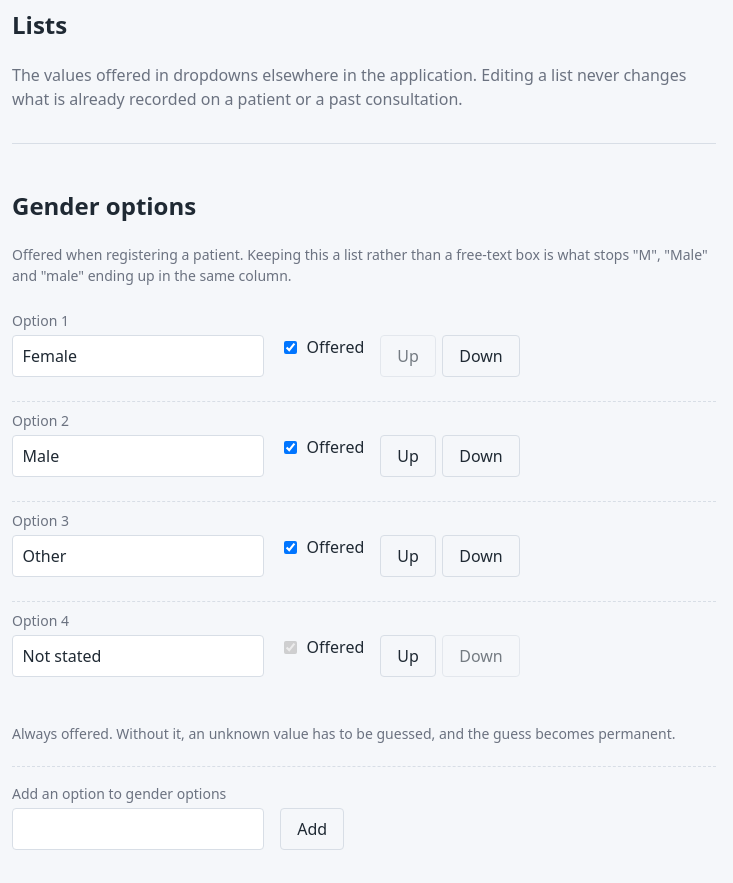
Test: ClinicSettingsPage › catches a case-insensitive duplicate before it is ever sent (C-20)
This screenshot has width=733, height=883.
Type "male" into the field labelled "Add an option to gender options" at (138, 829), box [12,808,264,850]
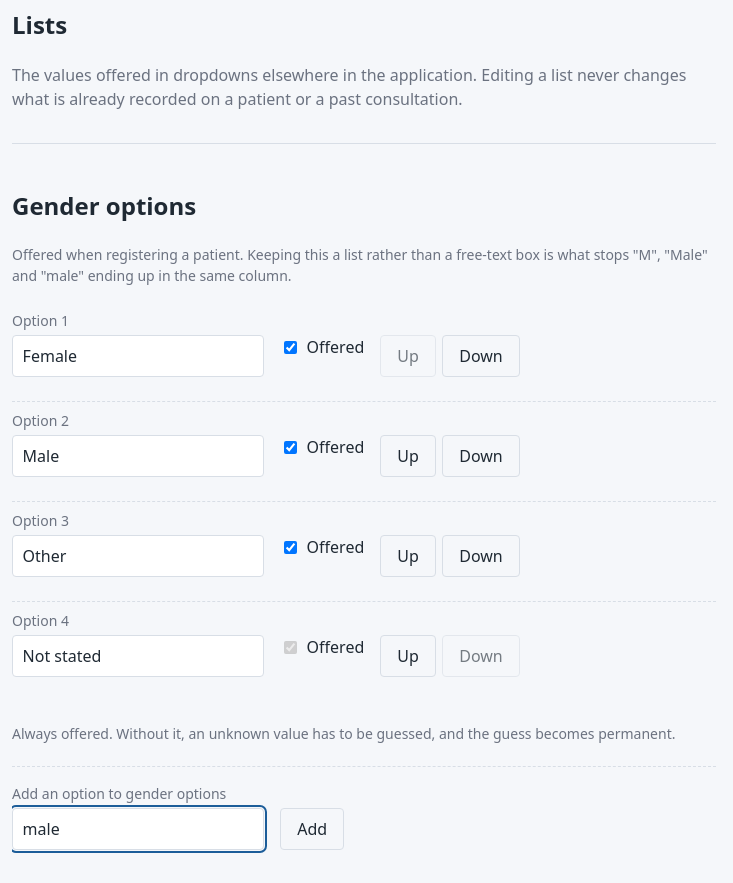
Click the button "Add" at (312, 829), box [280,808,344,850]
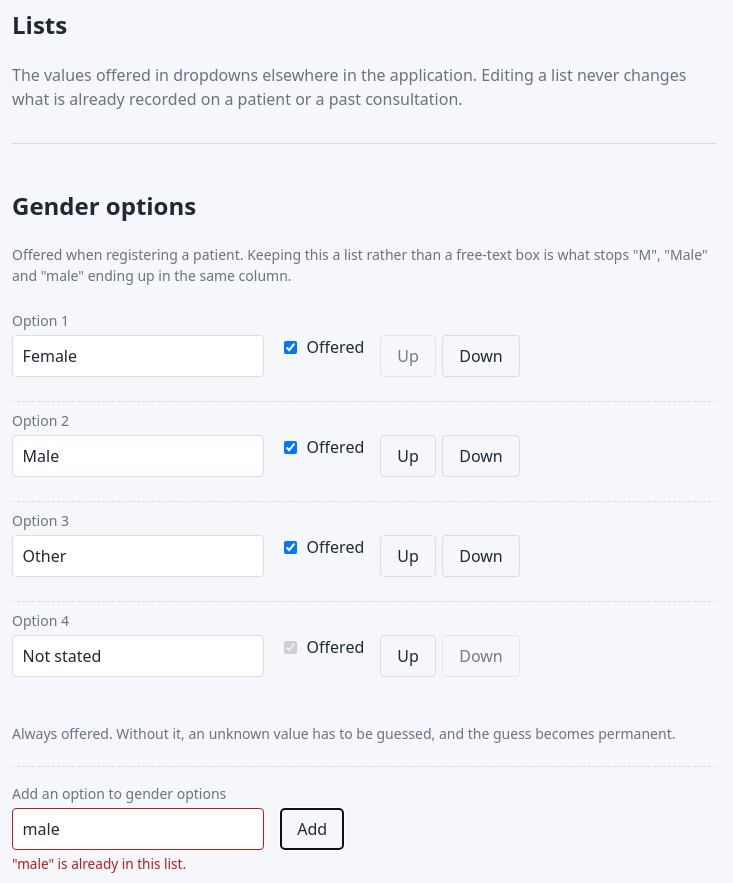
Check: the text "\"male\" is already in this list." is shown, box [12,854,186,873]
